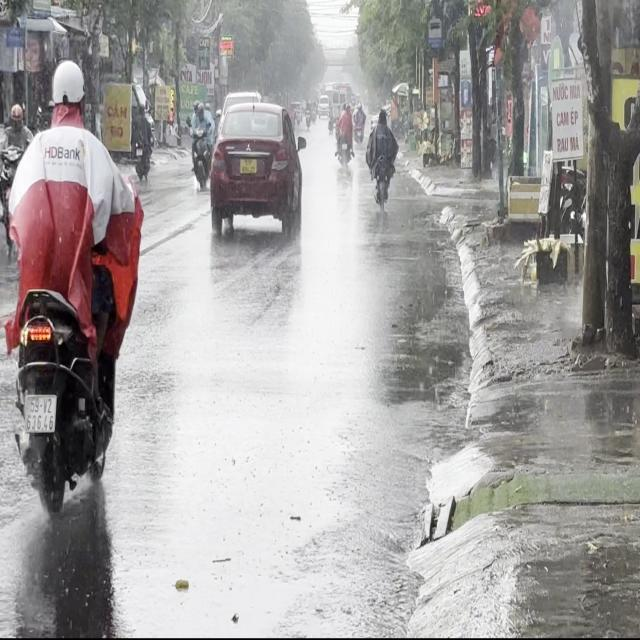helmet: (48, 58, 86, 122)
licenseplate: (0, 54, 143, 516)
nohelmet: (24, 394, 55, 431)
